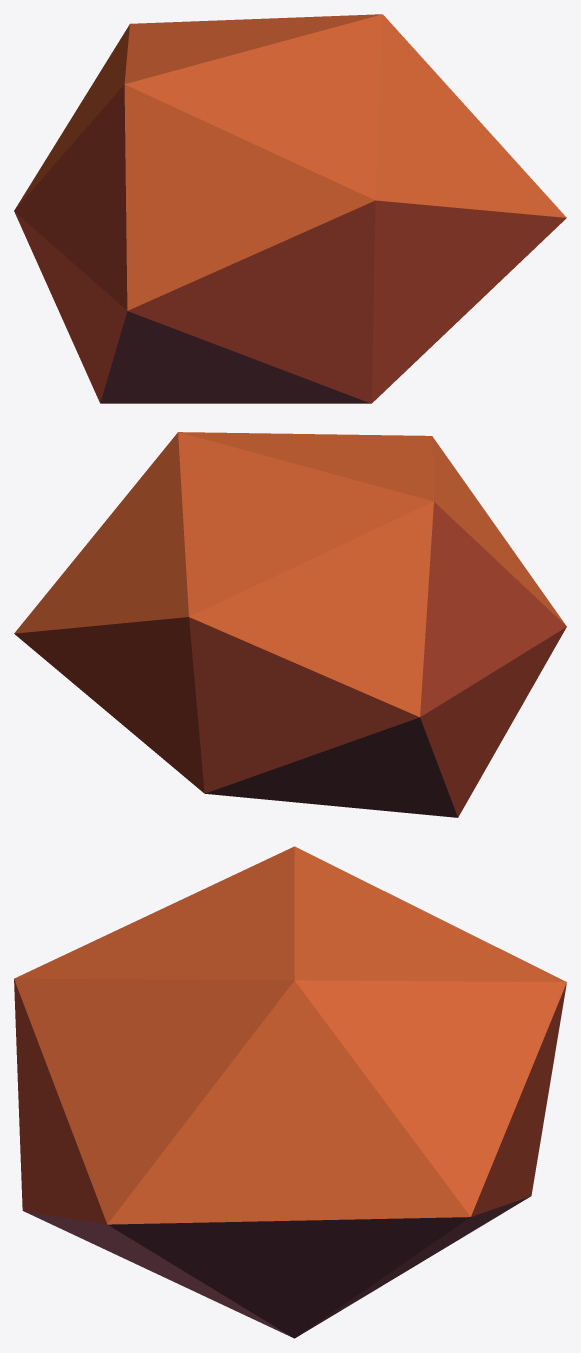
File: Rock_Scatter_A.fbx
3 renders of one model, top to bottom at view 1: azimuth 30°, elevation 25°; view 2: azimuth 150°, elevation 25°; view 3: azimuth 270°, elevation 25°, orthographic. The views are drawn at different scales.
Parts seen in each view (by area): view 1: Rock_Scatter_A; view 2: Rock_Scatter_A; view 3: Rock_Scatter_A.
Boxes of the visible parts, bbox=[...] form: Rock_Scatter_A: bbox=[14, 14, 566, 403]; Rock_Scatter_A: bbox=[14, 432, 566, 817]; Rock_Scatter_A: bbox=[14, 846, 566, 1338].
Bounding box in the file's own units: 0.2428 × 0.1749 × 0.2429.
